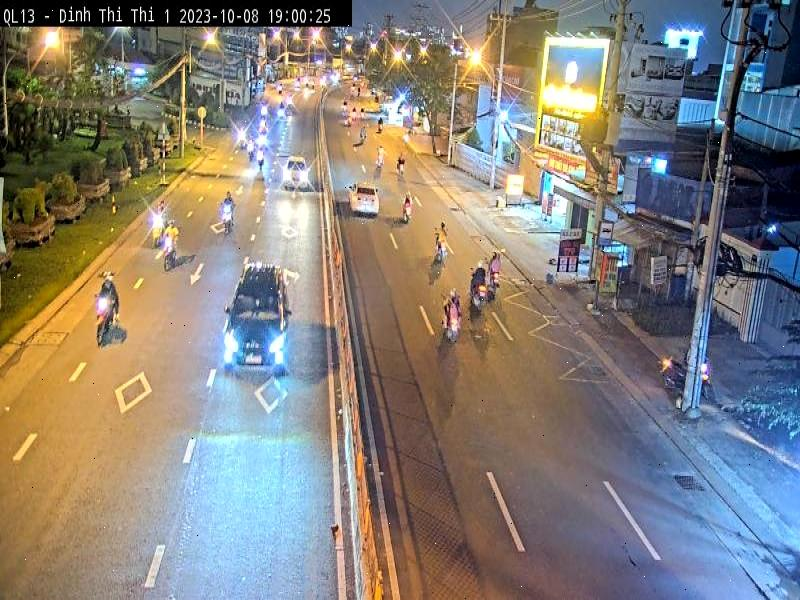car: (350, 183, 382, 220)
motorcycle: (95, 294, 115, 345)
